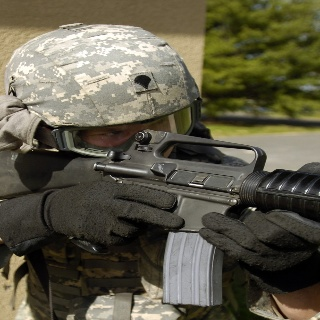rifle: (1, 125, 320, 309)
